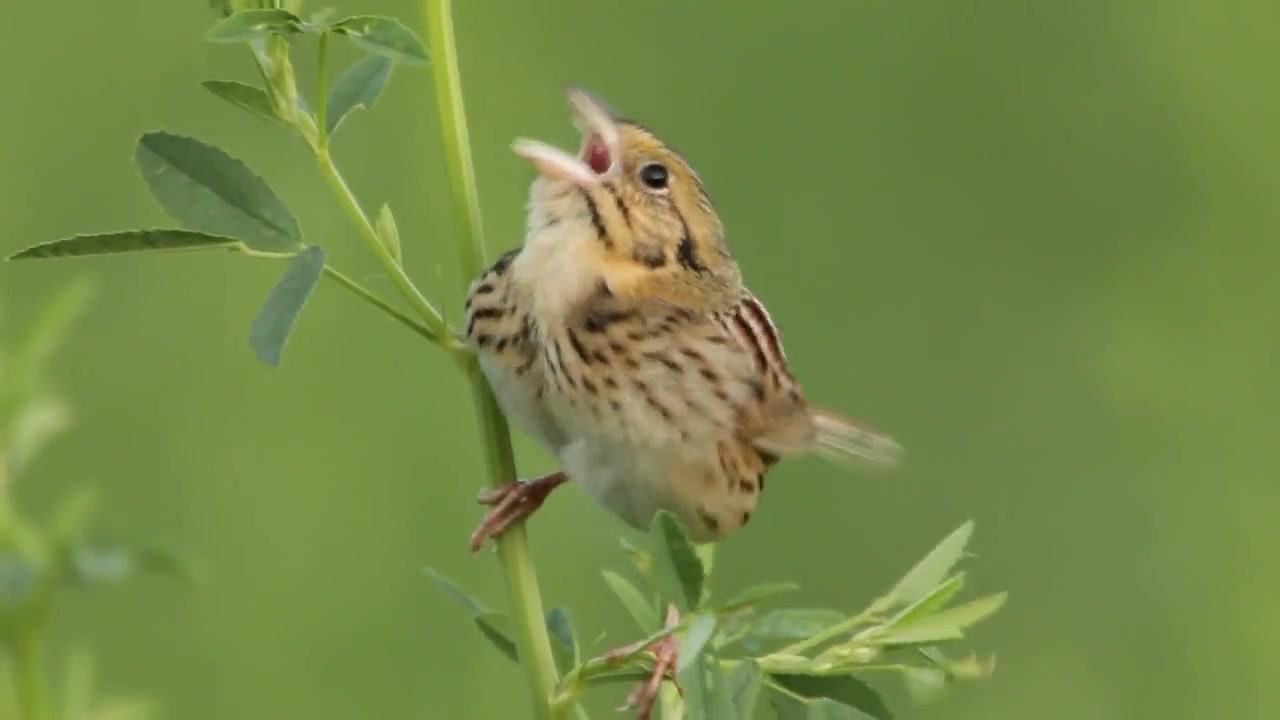bird: (460, 87, 905, 720)
